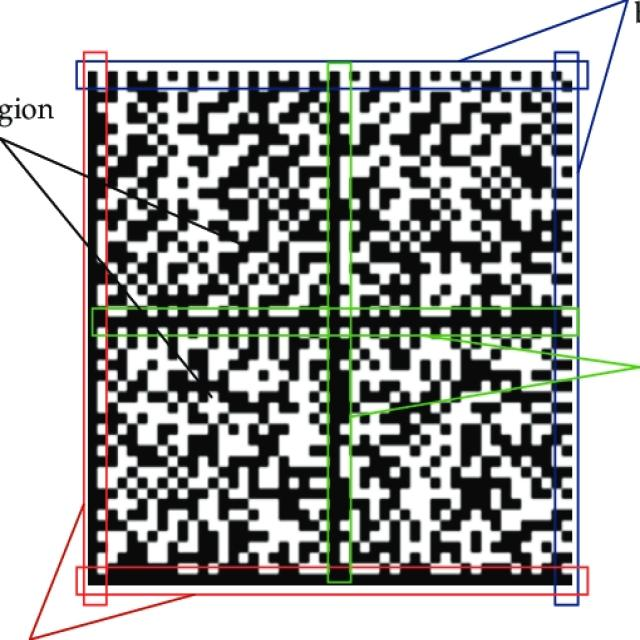datamatrix: (79, 57, 590, 595)
